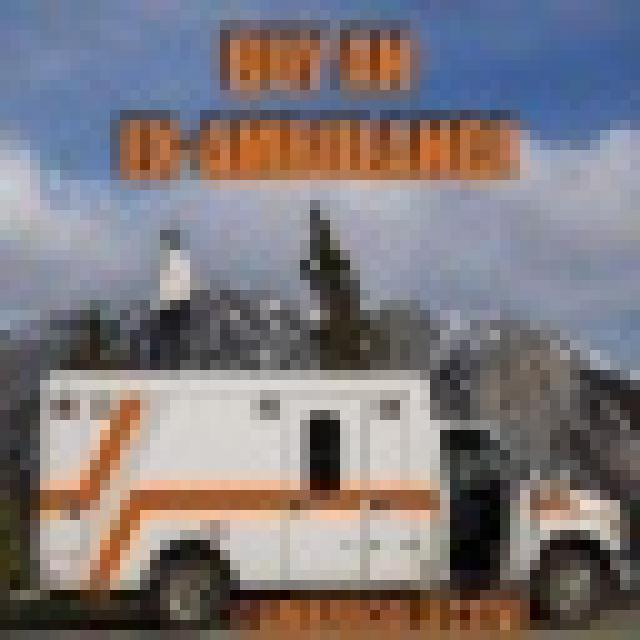ambulance: (20, 360, 630, 620)
